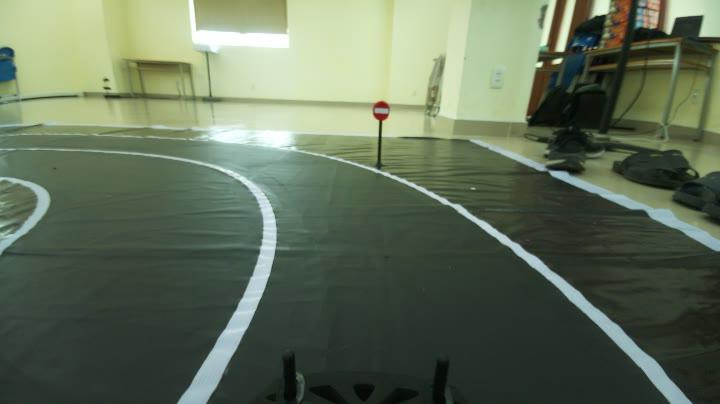no_entry: (364, 95, 394, 119)
